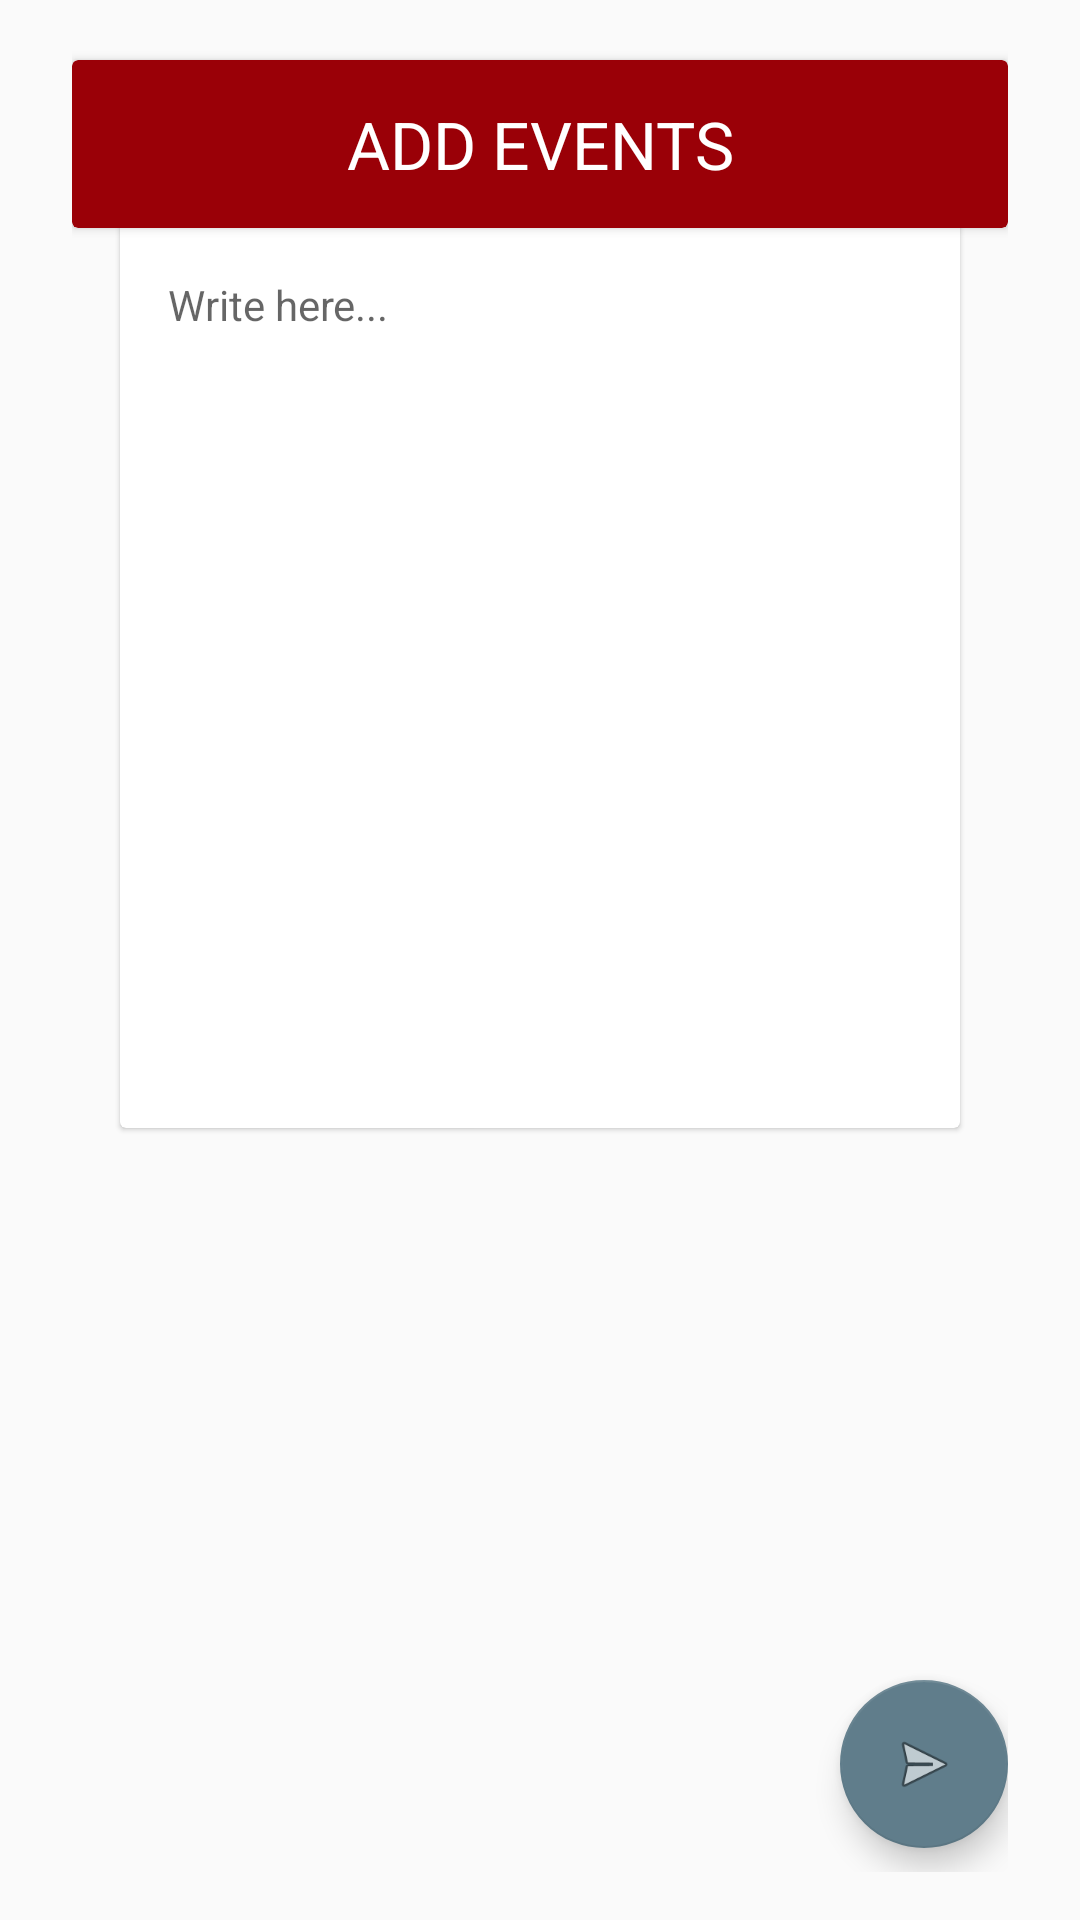

Point at icon controls on the screen. Image size 1080w x 1920h, points as [x,y].
send: [924,1764]
